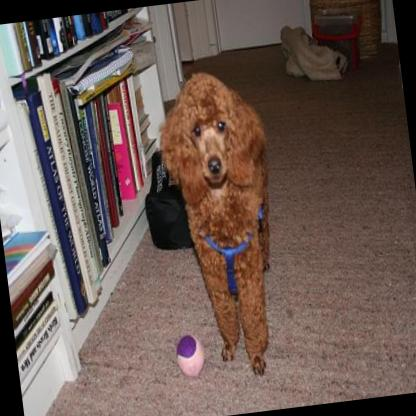miniature_poodle: (149, 61, 295, 385)
